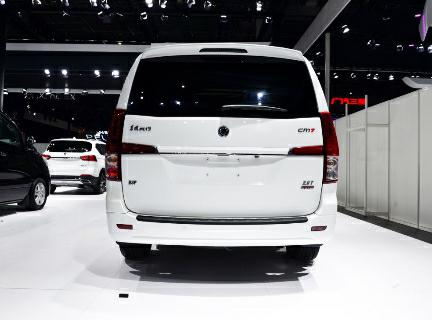东风风行-风行CM7: (99, 34, 341, 274)
